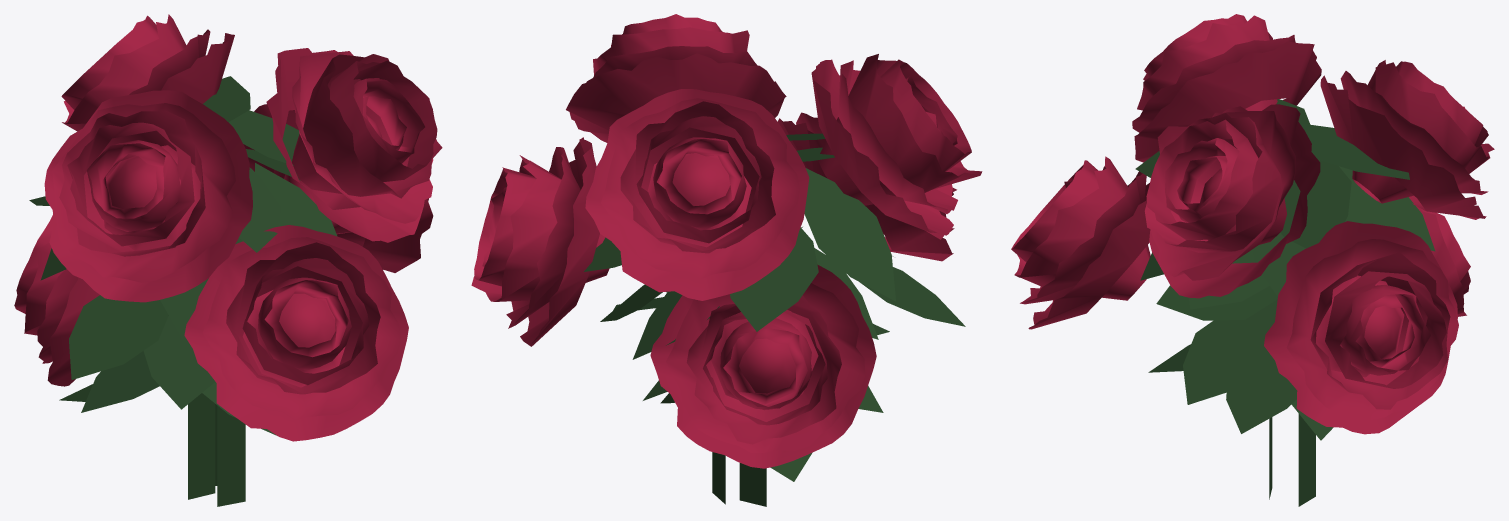
The model's file is Paeonia.fbx.
3 views of the same model, side by side, from view 1: azimuth 30°, elevation 25°; view 2: azimuth 150°, elevation 25°; view 3: azimuth 270°, elevation 25° (orthographic). The views are drawn at different scales.
Visible parts, largest first — view 1: Paeonia; view 2: Paeonia; view 3: Paeonia.
Boxes of the visible parts, left/top/right/bottom form: Paeonia: left=14, top=14, right=442, bottom=506; Paeonia: left=471, top=14, right=982, bottom=506; Paeonia: left=1011, top=14, right=1494, bottom=506.
Bounding box in the file's own units: 84.24 × 84.29 × 86.77.
